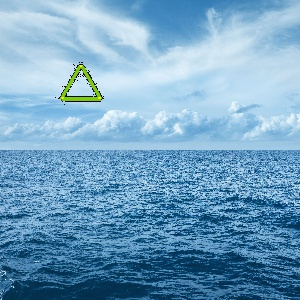triangle: (55, 63, 105, 104)
